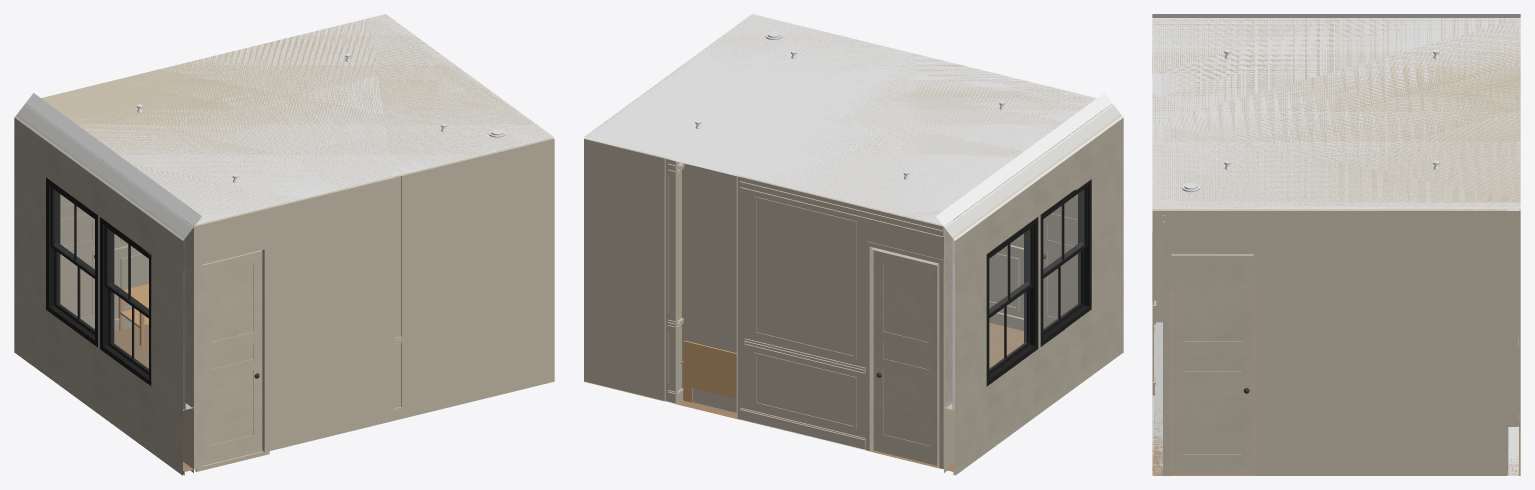
File: green-bedroom-aa866e619892.glb
The picture shows the model from 3 angles, left to right: view 1: azimuth 30°, elevation 25°; view 2: azimuth 150°, elevation 25°; view 3: azimuth 270°, elevation 25°; orthographic projection. The views are drawn at different scales.
Visible parts, largest first — view 1: green-bedroom-eb02897c2e79e2b1, green-bedroom-e8793759323e04f0, green-bedroom-9d91b47435c6fb33, green-bedroom-312b4ac1be39223d, green-bedroom-7406100458e293ce, green-bedroom-33ee0b466567e5f0, green-bedroom-eea30be35ce76d8a, green-bedroom-b27266f3159d5f34, green-bedroom-5e646f76b0244fe8, green-bedroom-39b94aca90fa4b53, green-bedroom-3a4d9d62ecd7be1c, green-bedroom-442e5a19ed849720 (+5 smaller); view 2: green-bedroom-9d91b47435c6fb33, green-bedroom-b6ab44e8ab2b63f4, green-bedroom-8d8280a2b3ef8b4c, green-bedroom-312b4ac1be39223d, green-bedroom-e8793759323e04f0, green-bedroom-5e646f76b0244fe8, green-bedroom-33ee0b466567e5f0, green-bedroom-689020e0fc226264, green-bedroom-eea30be35ce76d8a, green-bedroom-b27266f3159d5f34, green-bedroom-7406100458e293ce, green-bedroom-4fe5579be934d30a (+10 smaller); view 3: green-bedroom-64efeecf845bccca, green-bedroom-9d91b47435c6fb33, green-bedroom-e8793759323e04f0, green-bedroom-b50904fb6ee0544e, green-bedroom-eb02897c2e79e2b1, green-bedroom-689020e0fc226264, green-bedroom-34287d1b870c745c, green-bedroom-2575515a05775d9e, green-bedroom-442e5a19ed849720, green-bedroom-8d8280a2b3ef8b4c, green-bedroom-4fe5579be934d30a.
Part boxes in pixels (x1,y1,x2,y2): green-bedroom-eb02897c2e79e2b1: [188, 139, 554, 469]; green-bedroom-e8793759323e04f0: [27, 14, 552, 224]; green-bedroom-9d91b47435c6fb33: [25, 14, 554, 226]; green-bedroom-312b4ac1be39223d: [14, 116, 184, 409]; green-bedroom-7406100458e293ce: [202, 250, 262, 465]; green-bedroom-33ee0b466567e5f0: [14, 287, 193, 475]; green-bedroom-eea30be35ce76d8a: [46, 177, 97, 347]; green-bedroom-b27266f3159d5f34: [100, 217, 151, 386]; green-bedroom-5e646f76b0244fe8: [60, 138, 100, 328]; green-bedroom-39b94aca90fa4b53: [17, 105, 192, 409]; green-bedroom-3a4d9d62ecd7be1c: [24, 103, 193, 407]; green-bedroom-442e5a19ed849720: [201, 247, 266, 467]; green-bedroom-9d91b47435c6fb33: [583, 14, 1112, 226]; green-bedroom-b6ab44e8ab2b63f4: [736, 176, 949, 469]; green-bedroom-8d8280a2b3ef8b4c: [584, 138, 681, 403]; green-bedroom-312b4ac1be39223d: [953, 116, 1123, 409]; green-bedroom-e8793759323e04f0: [585, 15, 1110, 224]; green-bedroom-5e646f76b0244fe8: [873, 250, 937, 465]; green-bedroom-33ee0b466567e5f0: [944, 287, 1123, 475]; green-bedroom-689020e0fc226264: [676, 160, 737, 418]; green-bedroom-eea30be35ce76d8a: [986, 217, 1038, 386]; green-bedroom-b27266f3159d5f34: [1040, 179, 1091, 346]; green-bedroom-7406100458e293ce: [1039, 137, 1077, 328]; green-bedroom-4fe5579be934d30a: [664, 158, 676, 403]; green-bedroom-64efeecf845bccca: [1163, 209, 1508, 475]; green-bedroom-9d91b47435c6fb33: [1152, 18, 1520, 210]; green-bedroom-e8793759323e04f0: [1152, 14, 1520, 209]; green-bedroom-b50904fb6ee0544e: [1171, 254, 1253, 474]; green-bedroom-eb02897c2e79e2b1: [1152, 209, 1164, 475]; green-bedroom-689020e0fc226264: [1508, 211, 1518, 426]; green-bedroom-34287d1b870c745c: [1169, 252, 1256, 475]; green-bedroom-2575515a05775d9e: [1152, 284, 1520, 475]; green-bedroom-442e5a19ed849720: [1156, 211, 1162, 322]; green-bedroom-8d8280a2b3ef8b4c: [1507, 209, 1518, 475]; green-bedroom-4fe5579be934d30a: [1519, 211, 1520, 432].
Bounding box in the file's own units: 4.64 × 3.04 × 3.65.
26 materials, 5 textured.
